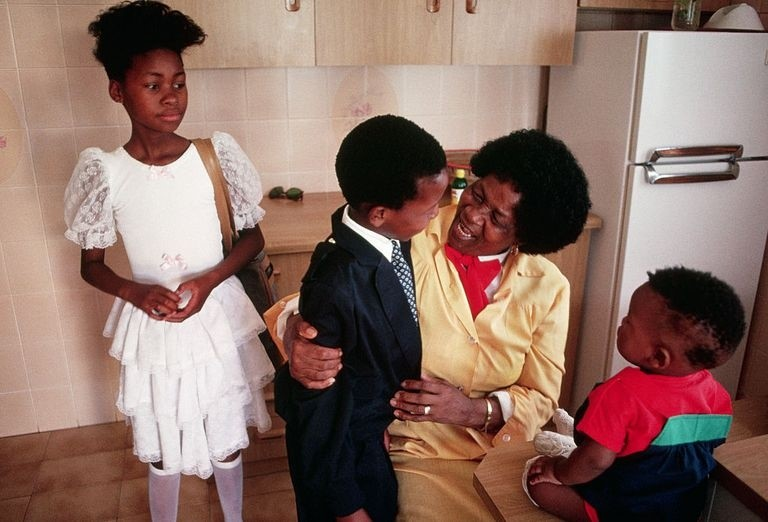face_no_mask: (449, 133, 578, 257), (338, 114, 448, 241), (617, 266, 744, 373), (95, 3, 201, 130)
